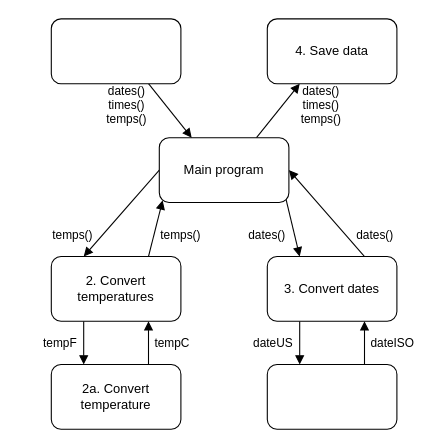
The diagram is 447 pixels wide and 448 high, and some of its shapes have lost their labels. The box of each missing label's shape, as (x1, y1, x2, y2) in pixels:
1. Get data: (50, 18, 181, 84)
3a. Convert date: (266, 363, 397, 429)
